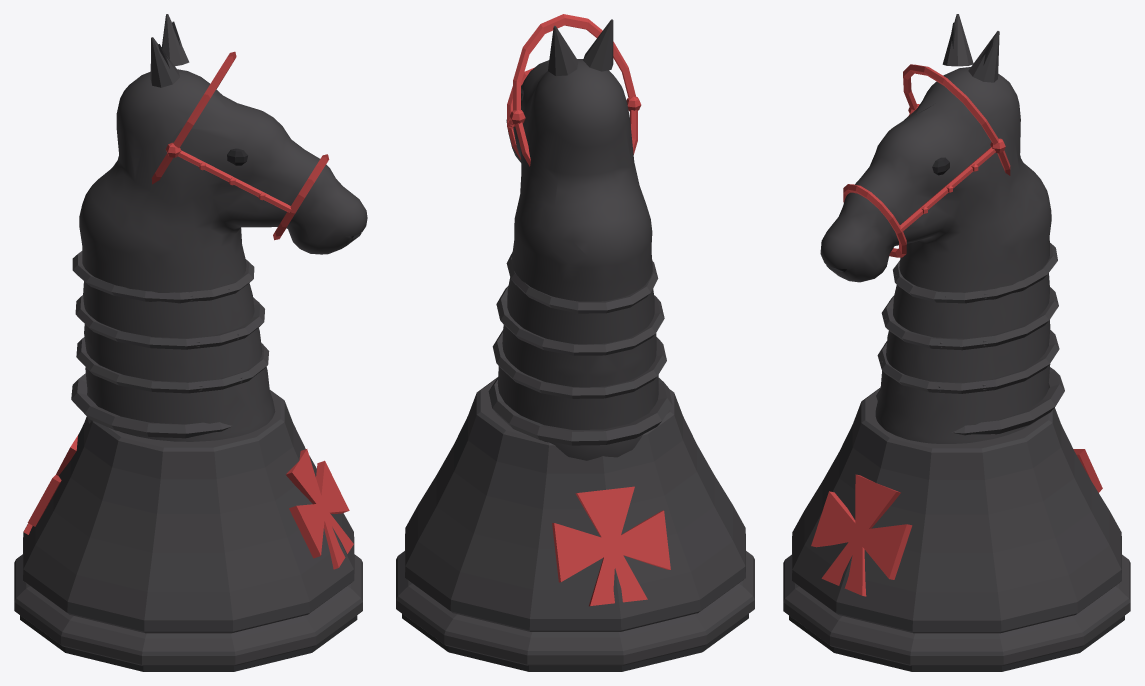
File: knight_black.glb
3 renders of one model, left to right at view 1: azimuth 30°, elevation 25°; view 2: azimuth 150°, elevation 25°; view 3: azimuth 270°, elevation 25°, orthographic. The views are drawn at different scales.
Parts seen in each view (by area): view 1: Knight_Black; view 2: Knight_Black; view 3: Knight_Black.
Boxes of the visible parts, x1=… form: Knight_Black: x1=14, y1=14, x2=367, y2=671; Knight_Black: x1=396, y1=14, x2=754, y2=671; Knight_Black: x1=783, y1=14, x2=1130, y2=671.
Bounding box in the file's own units: 1.2 × 2.17 × 1.2.
